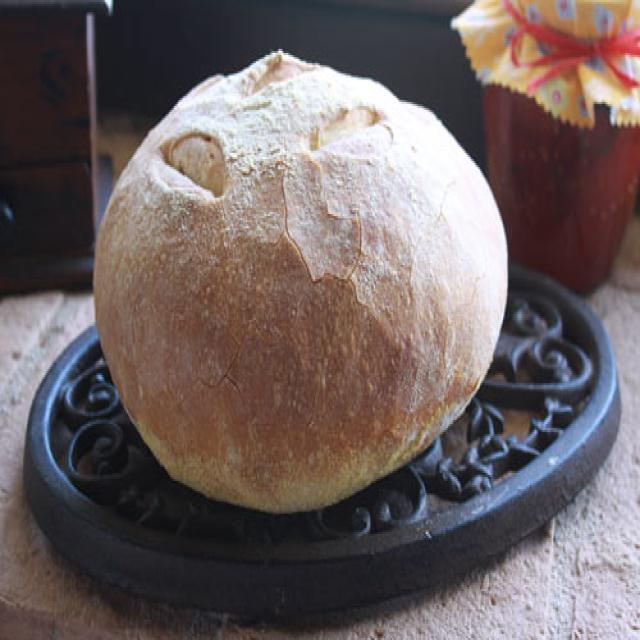Maltese-Bread: (93, 51, 507, 512)
